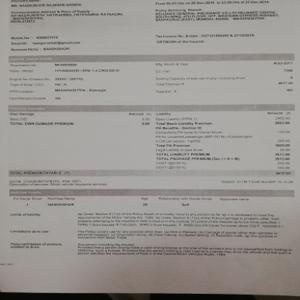table: (8, 105, 295, 177), (7, 188, 293, 259), (8, 52, 294, 107)
text: (7, 1, 128, 54), (154, 1, 279, 42)
